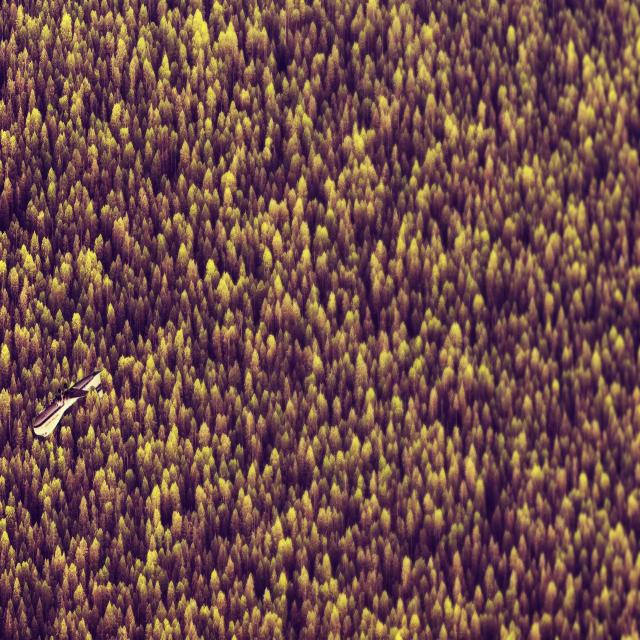airplane: (32, 368, 103, 438)
